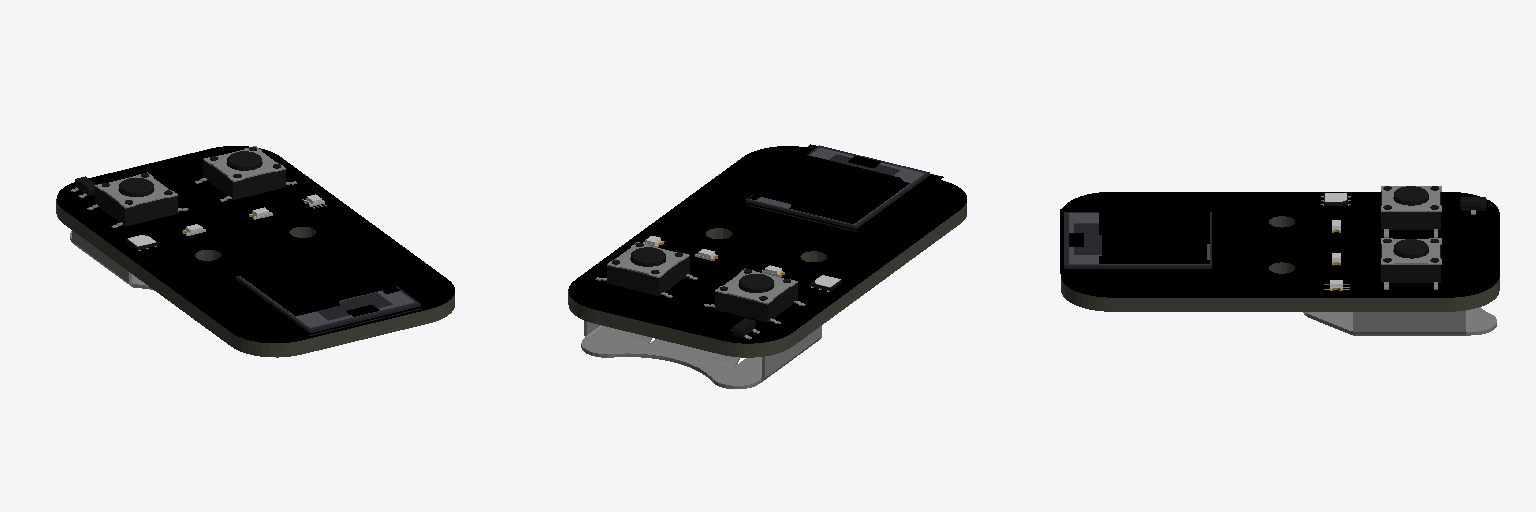
Rendered from Thunderboard_React_031716_obj.obj.
3 renders of one model, left to right at view 1: azimuth 30°, elevation 25°; view 2: azimuth 150°, elevation 25°; view 3: azimuth 270°, elevation 25°, orthographic.
Bounding box in the file's own units: 2.54 × 0.8235 × 4.45.